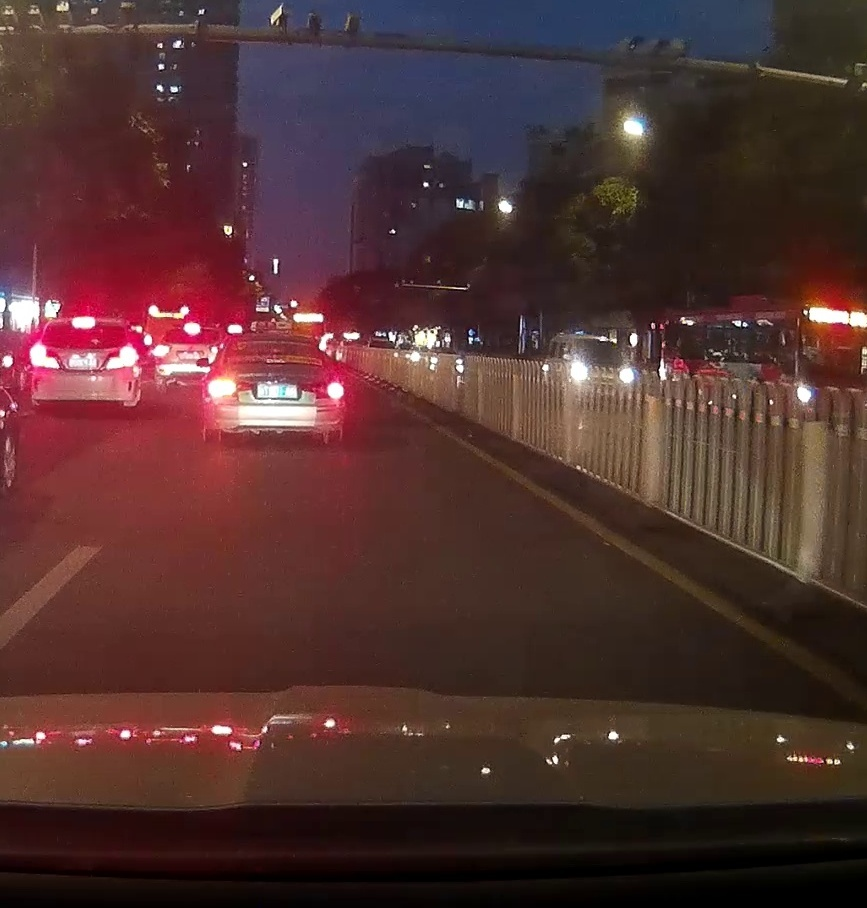L_light: (207, 371, 253, 398), (31, 344, 64, 370)
R_light: (302, 372, 344, 399), (105, 345, 139, 370)
T_light: (72, 317, 96, 329), (267, 347, 283, 353)
night-brake: (30, 316, 141, 413)
night-left: (206, 332, 345, 444)
